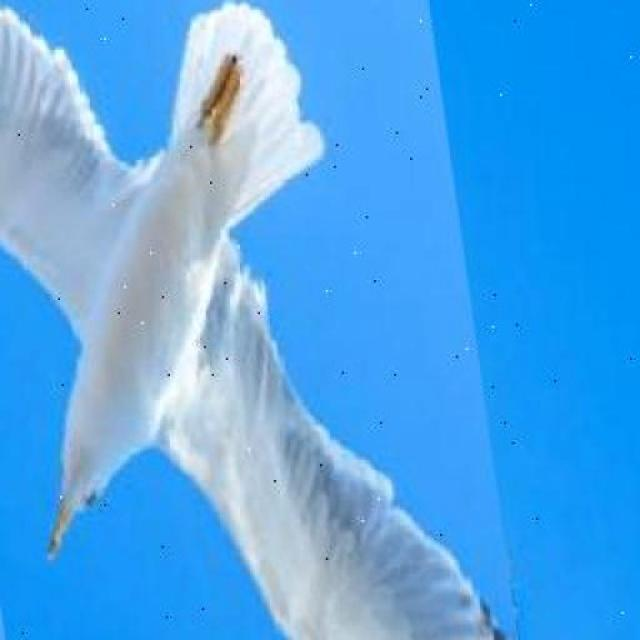airplane: (0, 0, 529, 640)
